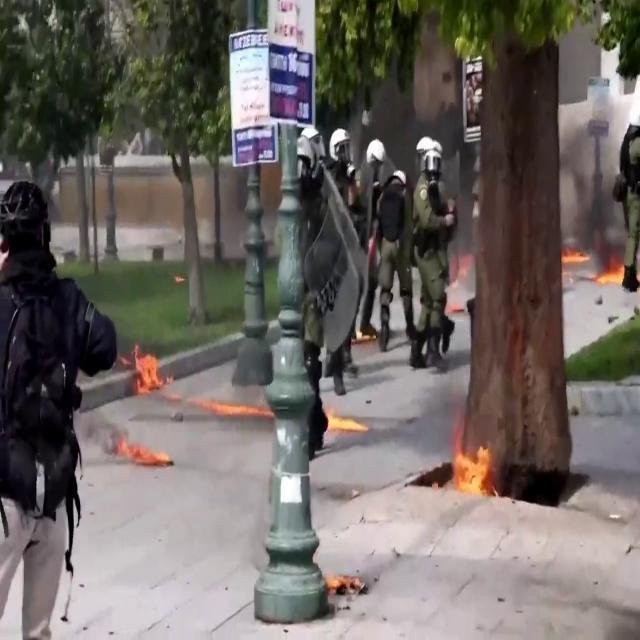Fire: (448, 428, 496, 499), (111, 420, 171, 470), (560, 244, 626, 288), (130, 338, 166, 396), (324, 403, 362, 433)
Smoke: (554, 62, 630, 252)
